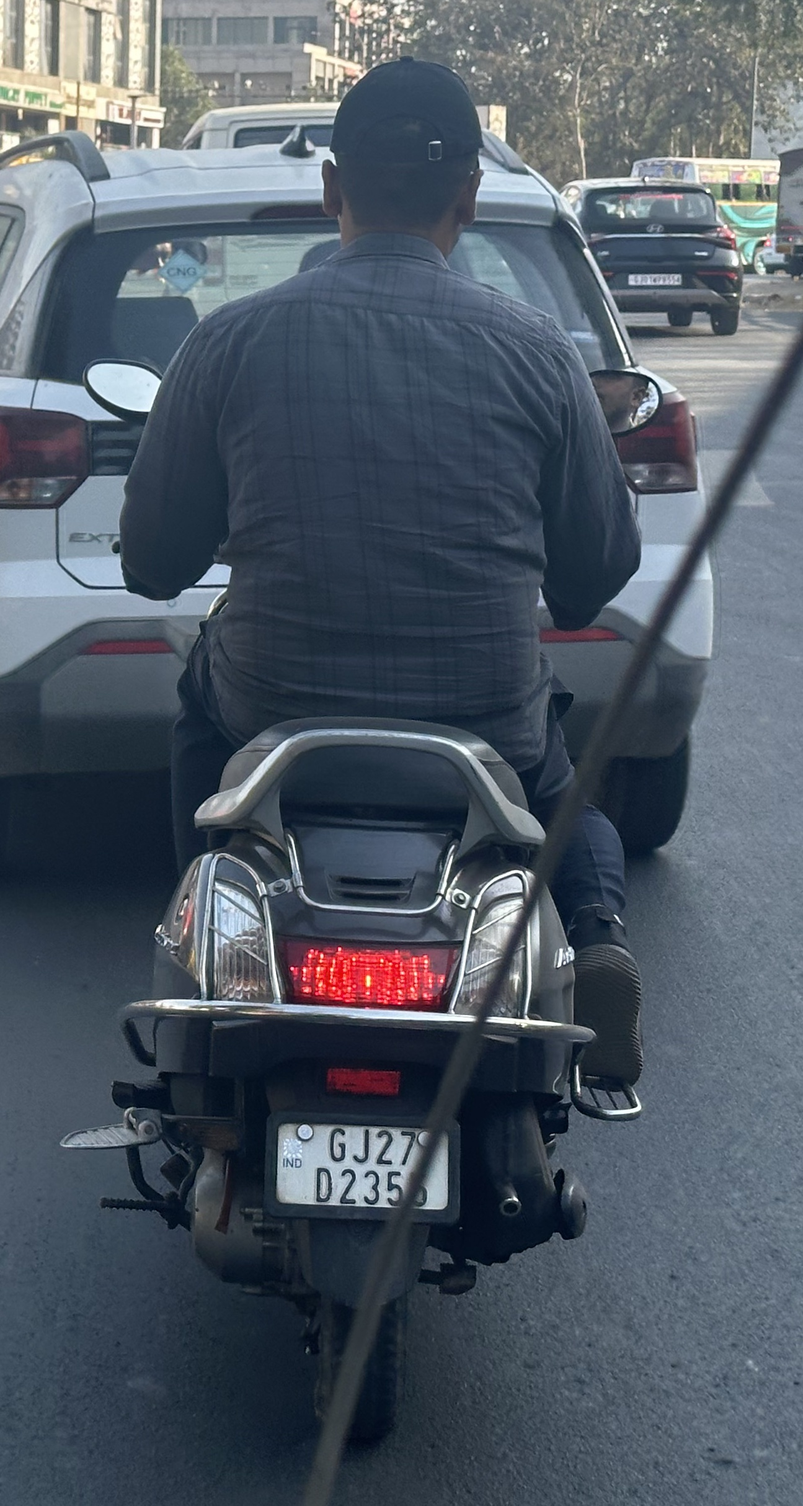BikeWithRider: (48, 43, 681, 1470)
NoHelmet: (307, 46, 500, 267)
